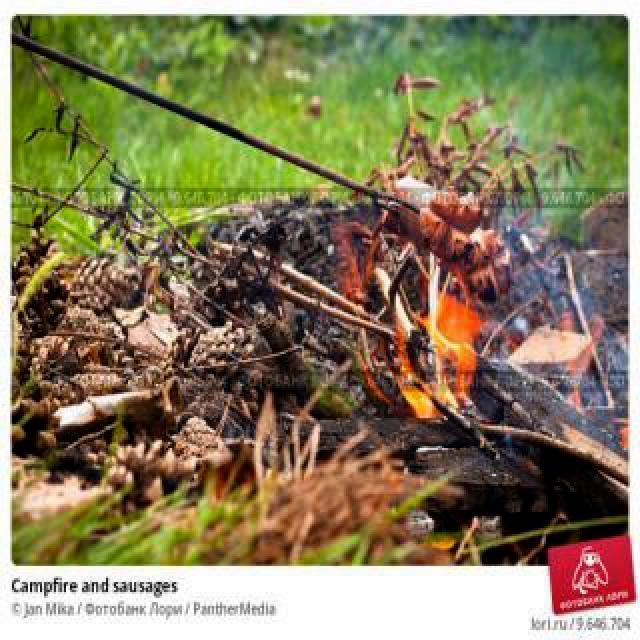fire: (12, 174, 480, 420), (482, 168, 628, 486)
